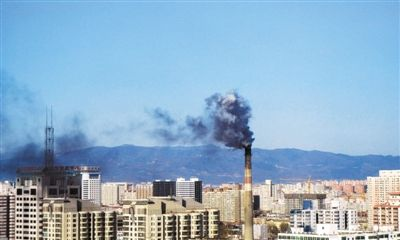dust: (171, 93, 271, 151)
